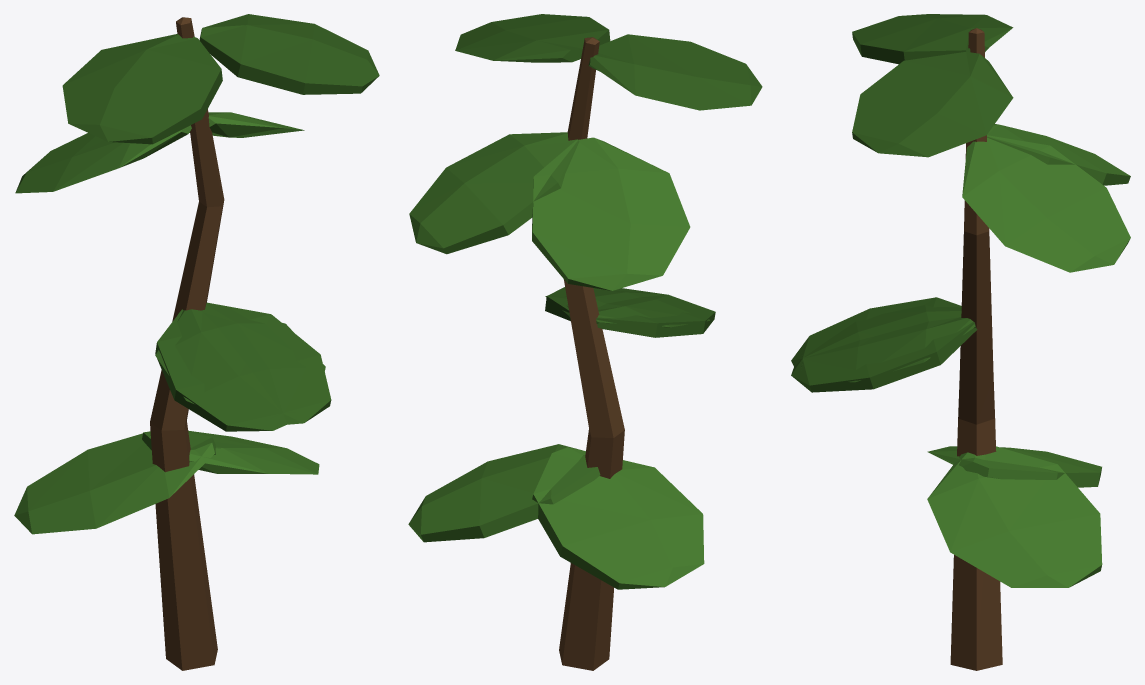
The model's file is grape_1.gltf.
3 renders of one model, left to right at view 1: azimuth 30°, elevation 25°; view 2: azimuth 150°, elevation 25°; view 3: azimuth 270°, elevation 25°, orthographic. The views are drawn at different scales.
Parts seen in each view (by area): view 1: grape_1; view 2: grape_1; view 3: grape_1.
Boxes of the visible parts, bbox=[...] form: grape_1: bbox=[14, 14, 379, 670]; grape_1: bbox=[408, 14, 762, 670]; grape_1: bbox=[791, 14, 1130, 670].
Size of the model in its own units: 0.4945 by 1.02 by 0.4957.
